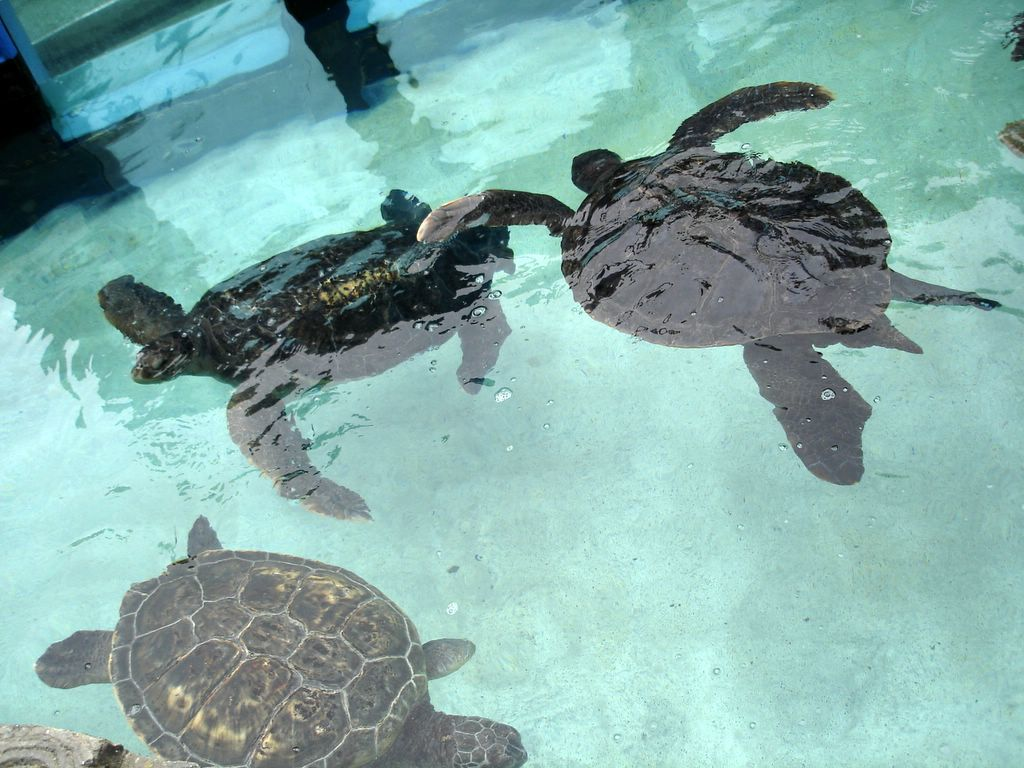Sea turtles: (416, 80, 999, 487), (93, 189, 516, 528), (35, 514, 526, 768)
